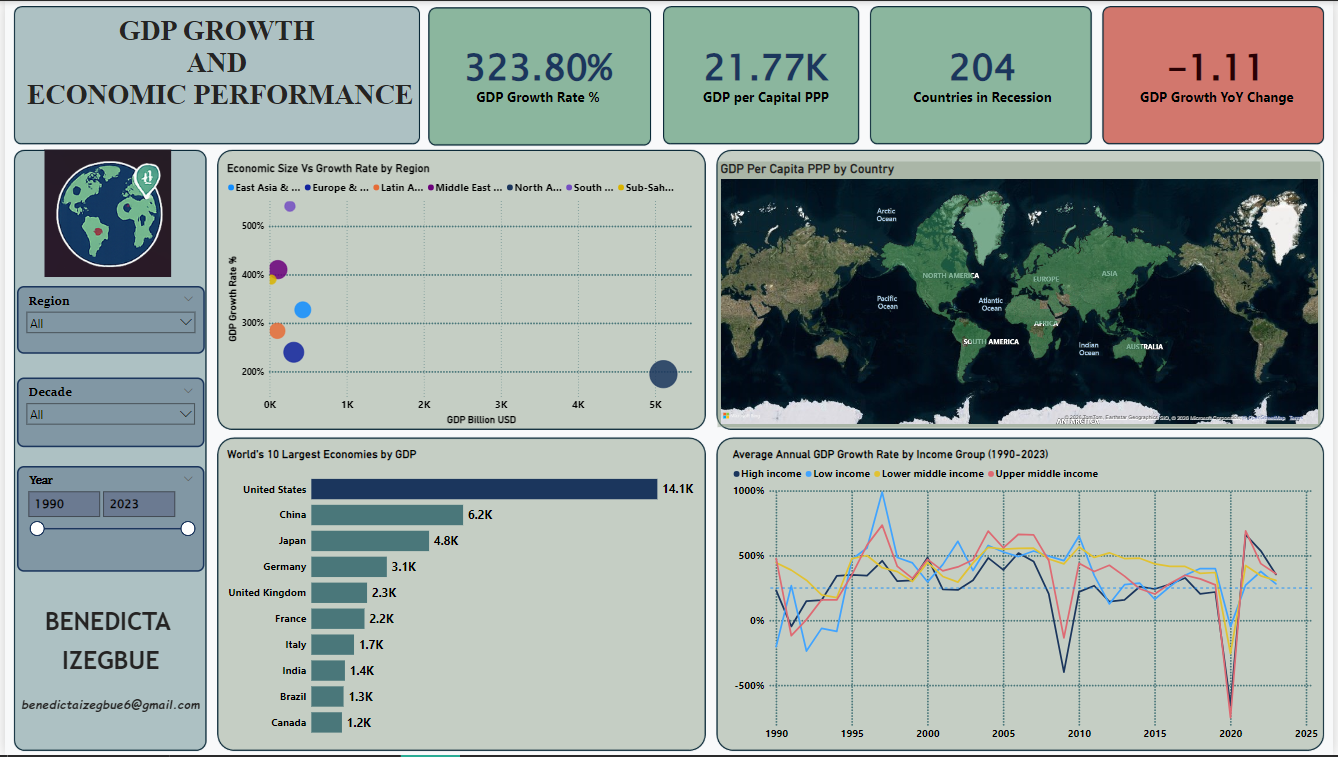

What the dashboard file says about the page in this screenshot:
{"tool":"powerbi","page":{"name":"GDP Growth","canvas":[2287,1298],"ordinal":0},"visuals":[{"type":"card","fields":{"Values":["_Measures.GDP Growth Rate %"]},"box":[741.9,17.6,351.9,211.1],"z":0},{"type":"card","fields":{"Values":["_Measures.GDP per Capital PPP"]},"box":[1143.6,17.6,331.3,211.1],"z":1000},{"type":"card","fields":{"Values":["_Measures.Countries in Recession"]},"box":[1498.4,17.6,369.5,211.1],"z":2000},{"type":"card","fields":{"Values":["_Measures.GDP Growth YoY Change"]},"box":[1908.9,17.6,354.8,211.1],"z":3000},{"type":"lineChart","title":"Average Annual GDP Growth Rate by Income Group (1990-2023)","fields":{"Category":["DIM_Date.Year"],"Y":["_Measures.GDP Growth Rate %"],"Series":["DIM_Country.Income Group"]},"box":[1246.2,768.3,1017.5,513.2],"z":4000},{"type":"clusteredBarChart","title":"World''s 10 Largest Economies by GDP","fields":{"Y":["_Measures.GDP Billion USD"],"Category":["DIM_Country.CountryName"]},"box":[378.3,768.3,824,513.2],"z":5000},{"type":"filledMap","title":"GDP Per Capita PPP by Country","fields":{"Category":["DIM_Country.CountryName"]},"box":[1226.6,276.3,1038.1,457.1],"z":6000},{"type":"scatterChart","title":"Economic Size Vs Growth Rate by Region","fields":{"X":["_Measures.GDP Billion USD"],"Series":["DIM_Country.Region"],"Y":["_Measures.GDP Growth Rate %"],"Size":["_Measures.GDP per Capital PPP"]},"box":[378.3,275.6,824,457.4],"z":7000},{"type":"textbox","box":[26.4,17.6,689.1,231.7],"z":8000},{"type":"slicer","fields":{"Values":["DIM_Country.Region"]},"box":[20.9,489.7,323,116.5],"z":9000},{"type":"slicer","fields":{"Values":["FACT_WDI_Unpivoted.Decade"]},"box":[20.5,648,322.6,120.2],"z":10000},{"type":"slicer","fields":{"Values":["DIM_Date.Year"]},"box":[20.5,800.5,322.6,181.8],"z":11000},{"type":"textbox","box":[20.5,1002.8,322.6,278.6],"z":12000},{"type":"image","box":[0,250.5,353.8,229.8],"z":12001}]}

Visuals, with their boxes in screenshot pixels (x1, y1, x2, y2), scaled from the page's 2287x1298 canvas onto the 1338x757 screenshot:
card - _Measures.GDP Growth Rate %: region(434, 10, 640, 133)
card - _Measures.GDP per Capital PPP: region(669, 10, 863, 133)
card - _Measures.Countries in Recession: region(877, 10, 1093, 133)
card - _Measures.GDP Growth YoY Change: region(1117, 10, 1324, 133)
"Average Annual GDP Growth Rate by Income Group (1990-2023)" lineChart: region(729, 448, 1324, 747)
"World''s 10 Largest Economies by GDP" clusteredBarChart: region(221, 448, 703, 747)
"GDP Per Capita PPP by Country" filledMap: region(718, 161, 1325, 428)
"Economic Size Vs Growth Rate by Region" scatterChart: region(221, 161, 703, 427)
textbox: region(15, 10, 419, 145)
slicer - DIM_Country.Region: region(12, 286, 201, 354)
slicer - FACT_WDI_Unpivoted.Decade: region(12, 378, 201, 448)
slicer - DIM_Date.Year: region(12, 467, 201, 573)
textbox: region(12, 585, 201, 747)
image: region(0, 146, 207, 280)
